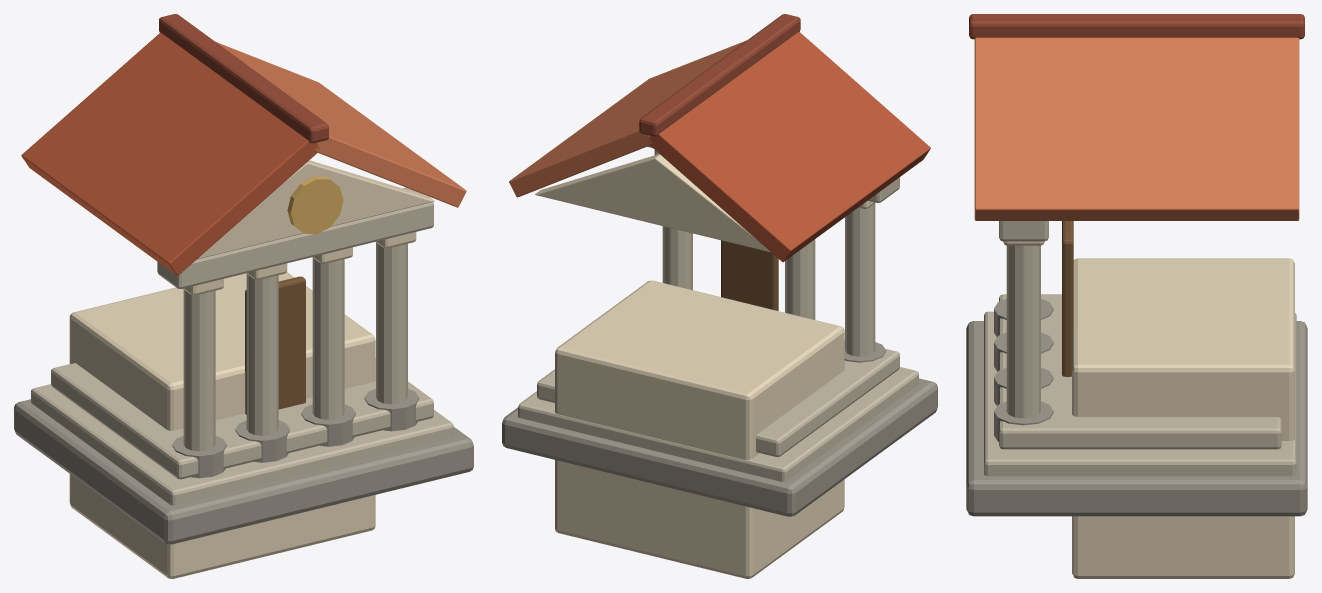
The model's file is forum.glb.
3 views of the same model, side by side, from view 1: azimuth 30°, elevation 25°; view 2: azimuth 150°, elevation 25°; view 3: azimuth 270°, elevation 25° (orthographic). The views are drawn at different scales.
Parts seen in each view (by area): view 1: CivicHall_Geometry; view 2: CivicHall_Geometry; view 3: CivicHall_Geometry.
Part boxes in pixels (left/top/right/bottom): CivicHall_Geometry: left=14, top=14, right=473, bottom=578; CivicHall_Geometry: left=502, top=14, right=937, bottom=578; CivicHall_Geometry: left=966, top=14, right=1307, bottom=578.
Bounding box in the file's own units: 2.35 × 3.37 × 2.05.
